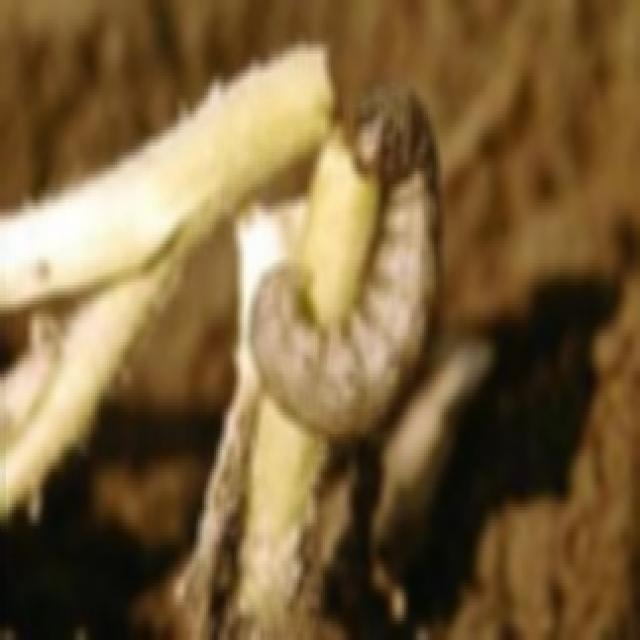black cutworm: (246, 72, 442, 437)
